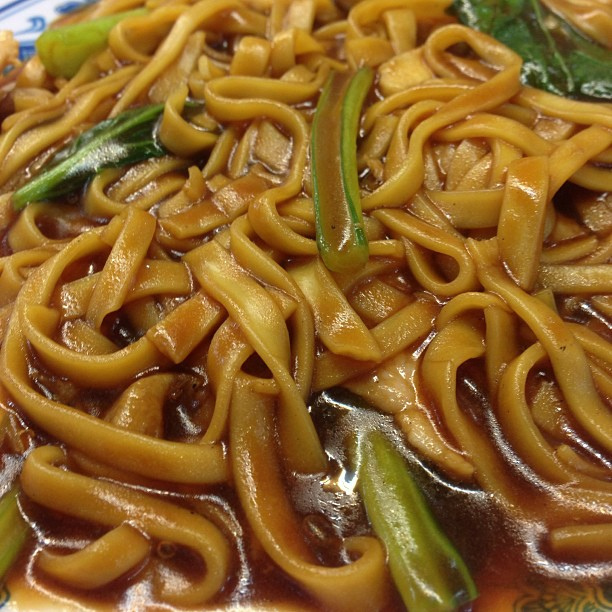plain spaghetti: (18, 10, 570, 576)
